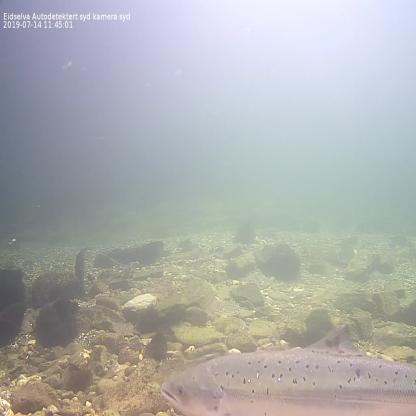salmon: (158, 319, 416, 415)
